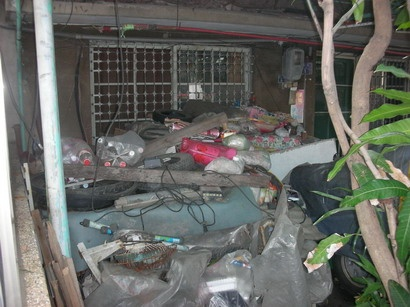plastic_bag: (82, 220, 333, 307), (180, 137, 236, 164), (98, 132, 142, 166), (203, 156, 240, 173), (242, 148, 270, 169), (224, 133, 249, 149)
tire: (30, 171, 139, 211), (137, 152, 196, 192)
